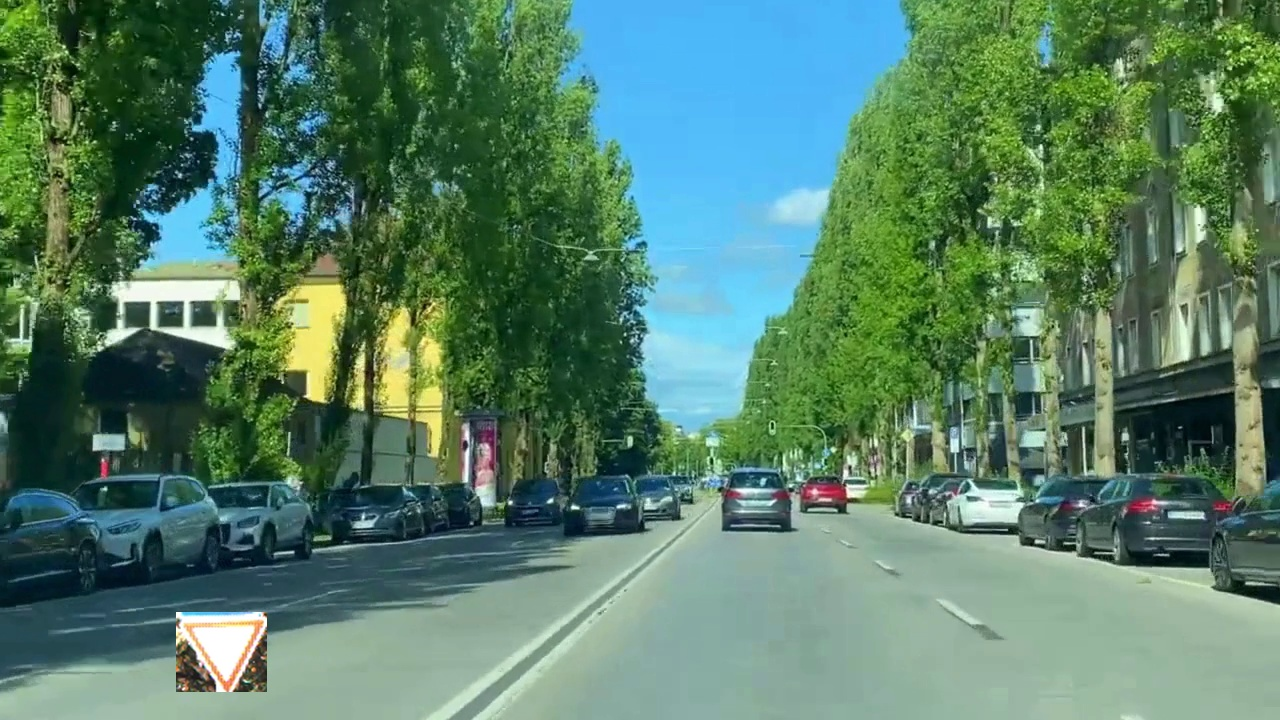Yield: (176, 612, 267, 692)
